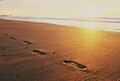human_foot_print: (62, 56, 86, 70), (32, 50, 54, 58), (20, 37, 32, 47)
